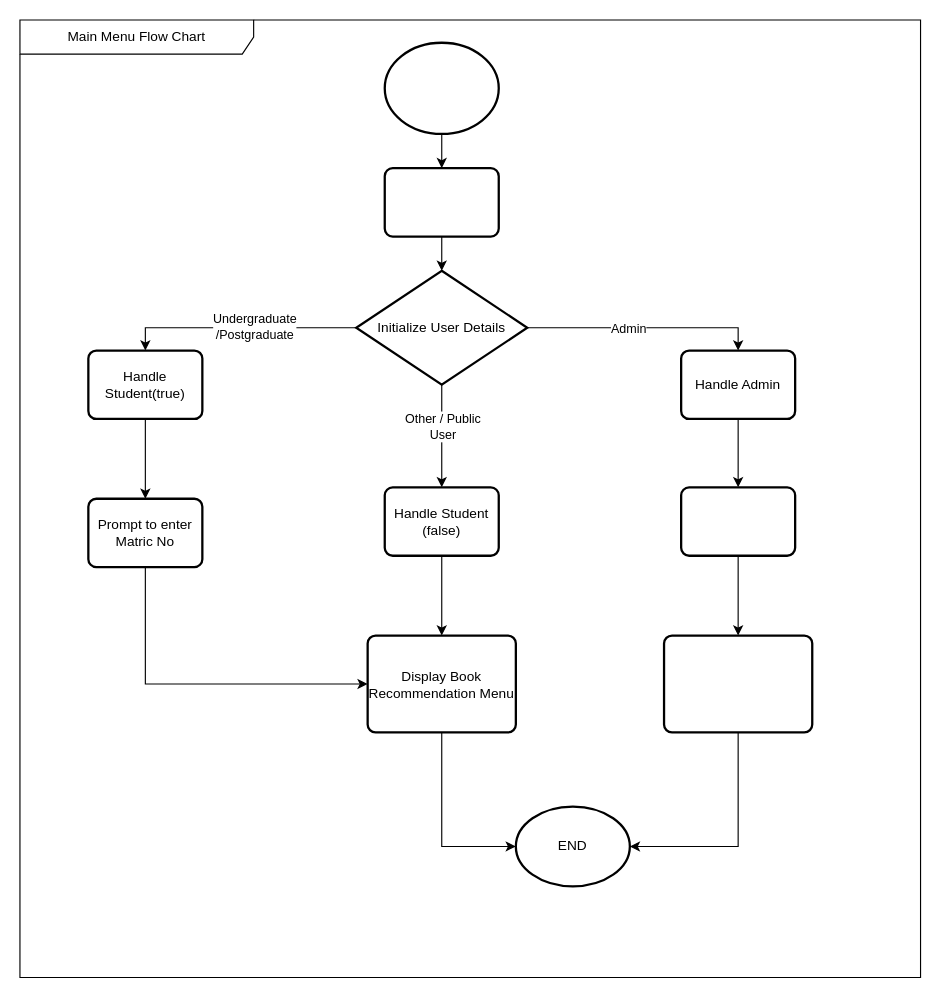
The diagram is 941 pixels wide and 998 high, and some of its shapes have lost their labels. Here are the shapes that lost their labels. From the top down, the centre of each, then its label:
point (441, 88): START
point (441, 201): Display Main Menu
point (737, 521): Prompt Admin Credentials
point (737, 683): Display Admin Configuration Menu
